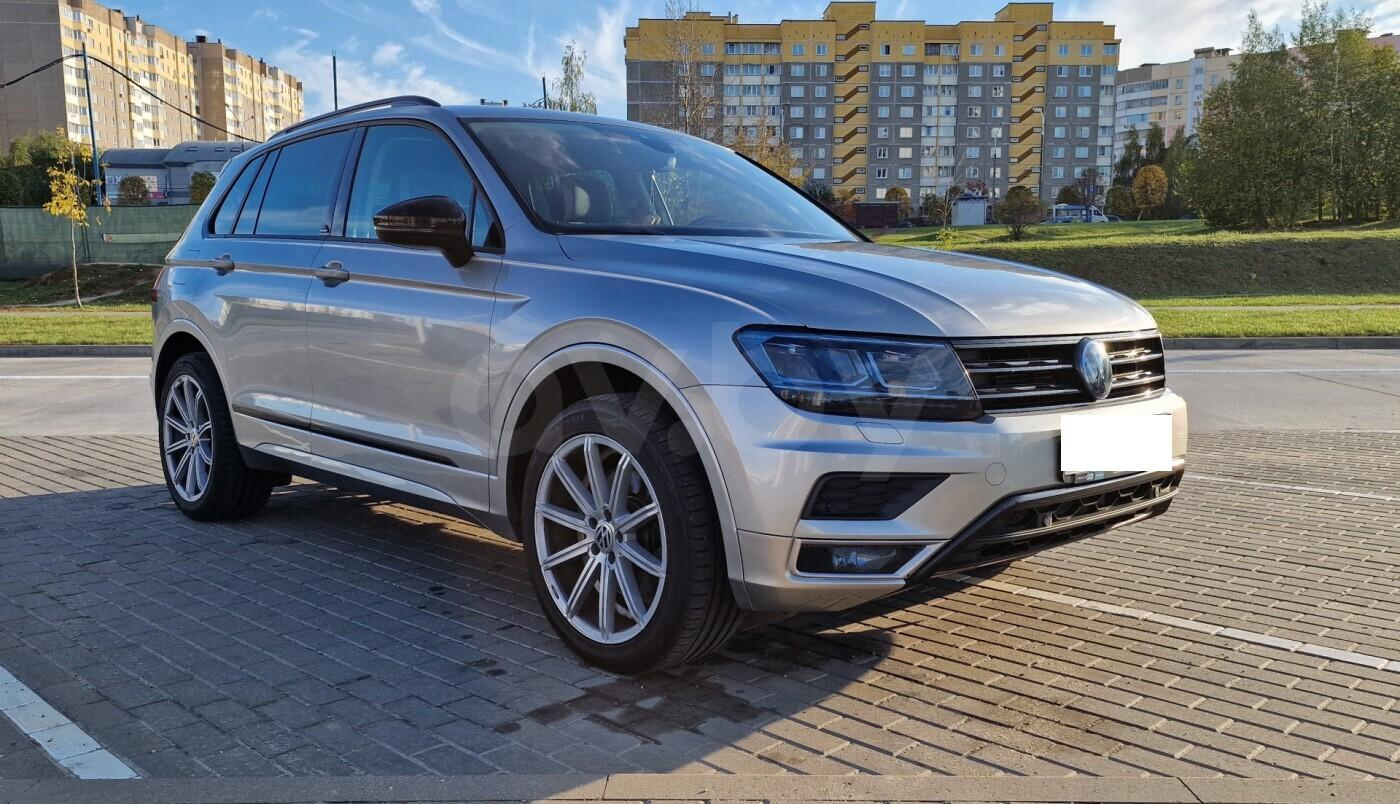Tiguan_2016-2021: (143, 101, 1191, 670)
